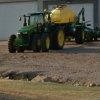Tractor: (7, 3, 83, 57)
